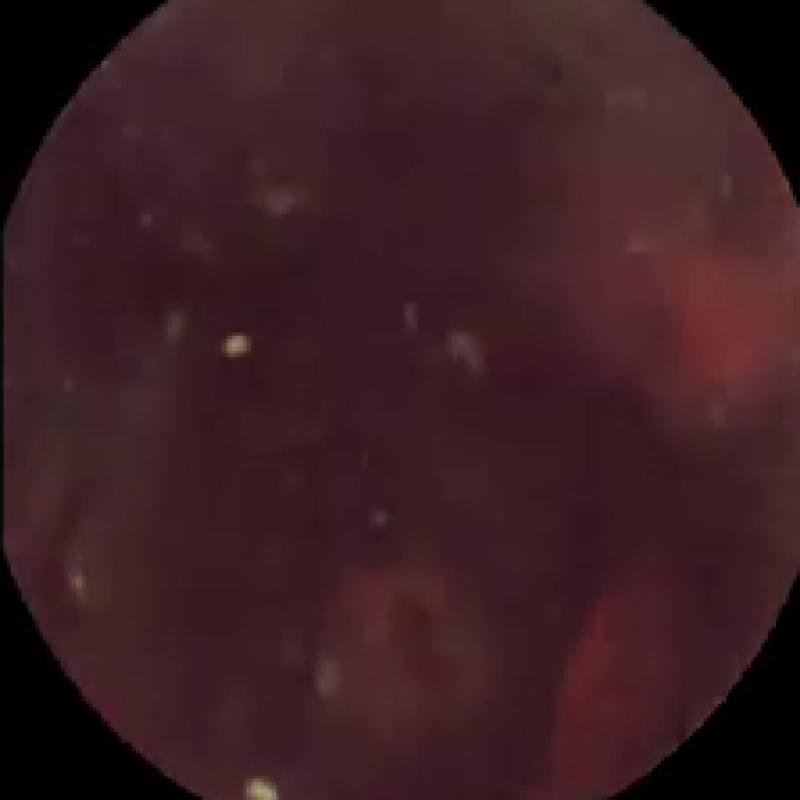bleeding: (585, 203, 800, 432), (550, 567, 698, 795), (347, 576, 472, 703)
